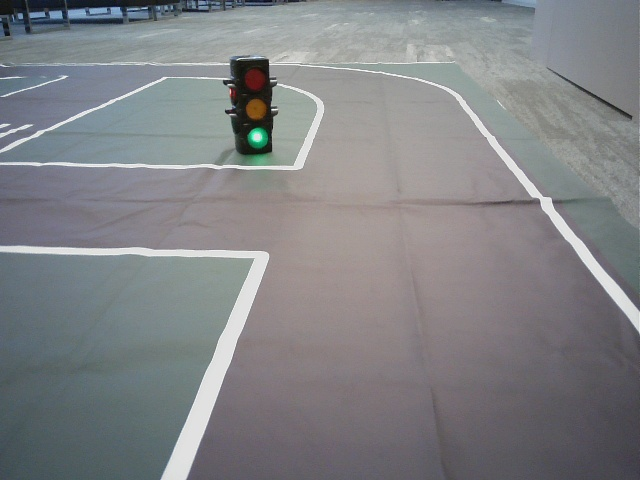green: (240, 62, 271, 151)
